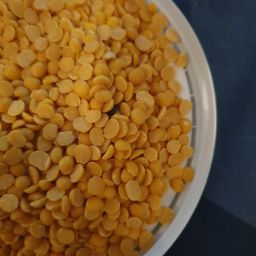Pigeon Pea(toor daal): (3, 3, 212, 256), (9, 75, 192, 223), (17, 9, 143, 117), (28, 154, 153, 251)
